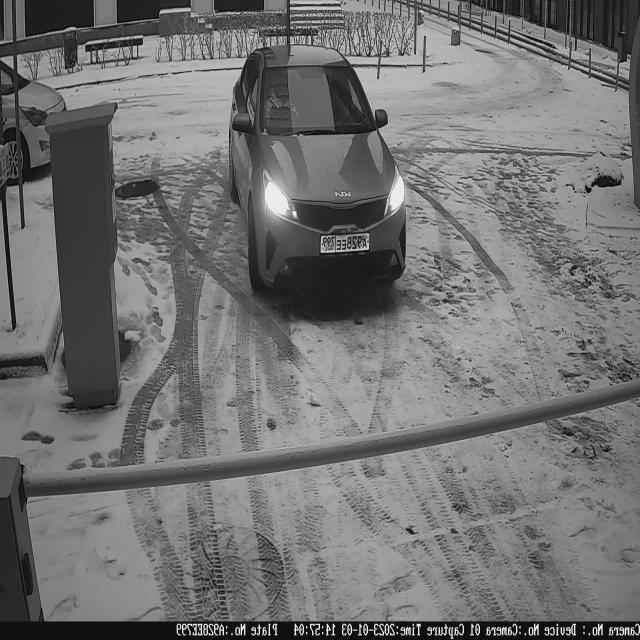car-plate-numbers: (319, 226, 374, 261)
